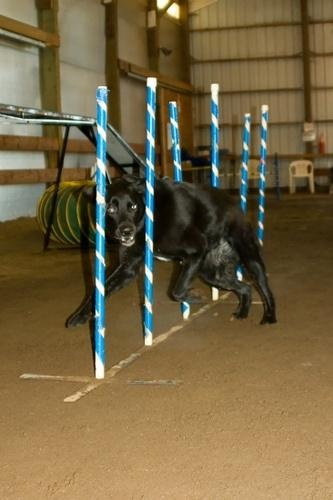chair: (287, 162, 316, 198)
dog: (70, 174, 277, 328)
